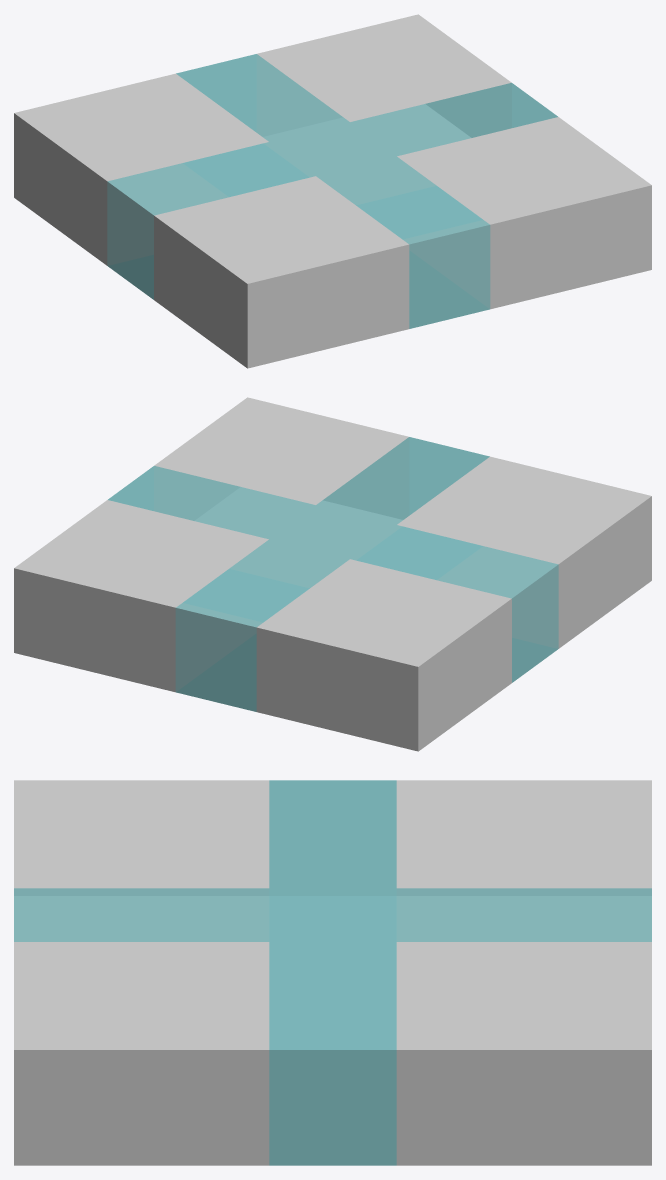
The model's file is platform.fbx.
3 renders of one model, top to bottom at view 1: azimuth 30°, elevation 25°; view 2: azimuth 150°, elevation 25°; view 3: azimuth 270°, elevation 25°, orthographic. The views are drawn at different scales.
Visible parts, largest first — view 1: pCube1; view 2: pCube1; view 3: pCube1.
Boxes of the visible parts, bbox=[...] form: pCube1: bbox=[14, 14, 651, 368]; pCube1: bbox=[14, 397, 651, 751]; pCube1: bbox=[14, 780, 651, 1165].
Size of the model in its own units: 10 by 2 by 10.
